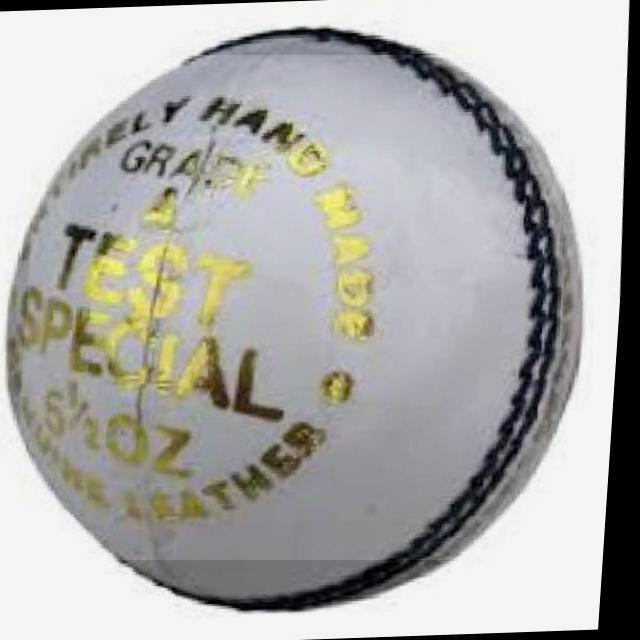-: (18, 55, 573, 560)
